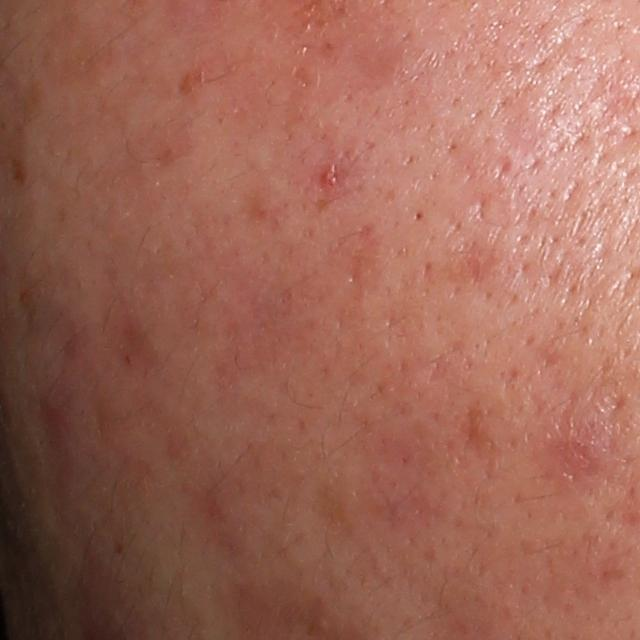atrophic_scar: (458, 396, 502, 475)
papule: (311, 156, 348, 192)
